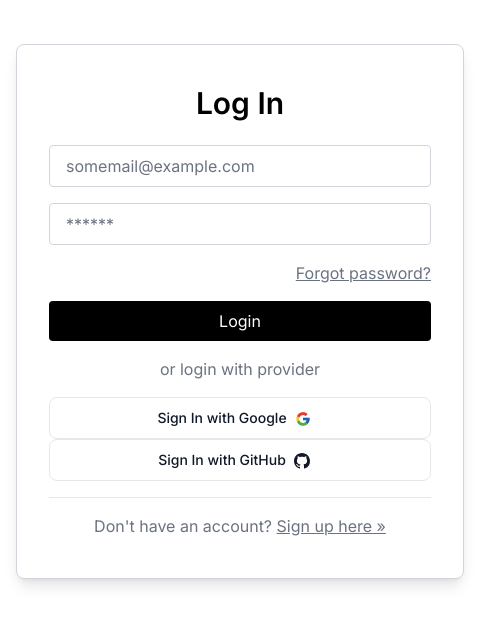
Test: LoginPage › displays error message on failed login
Type "test@example.com" into the field with test id "Email" at [240, 166], box x1=49 y1=144 x2=431 y2=186
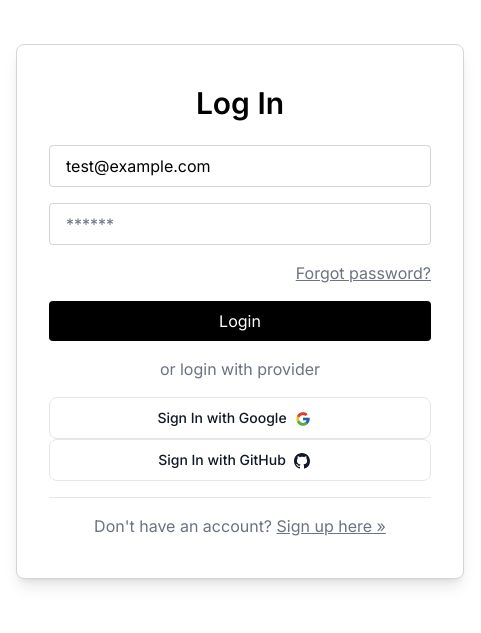
Type "password" into the password field with test id "Password" at [240, 224], box x1=49 y1=202 x2=431 y2=244
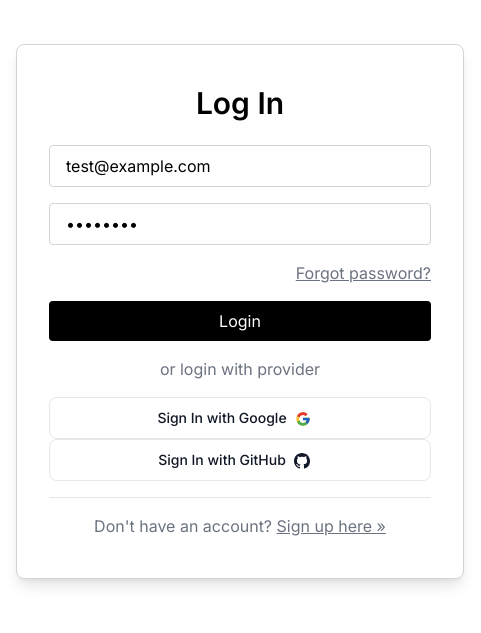
Click the button "Login" at [240, 320], box x1=49 y1=300 x2=431 y2=340
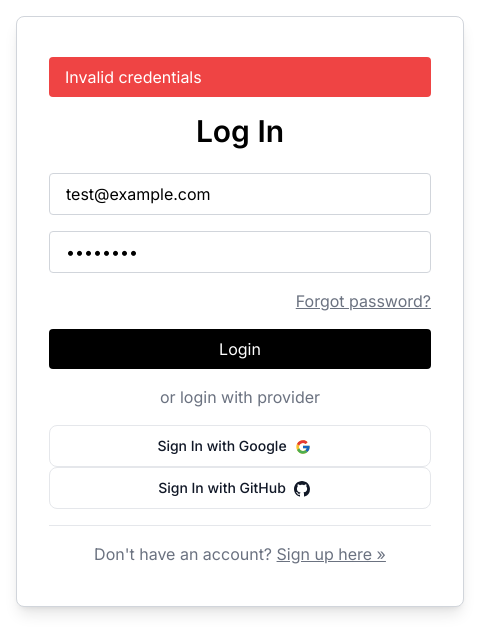
Expected: the text "Invalid credentials" is shown, x1=49 y1=56 x2=431 y2=96
